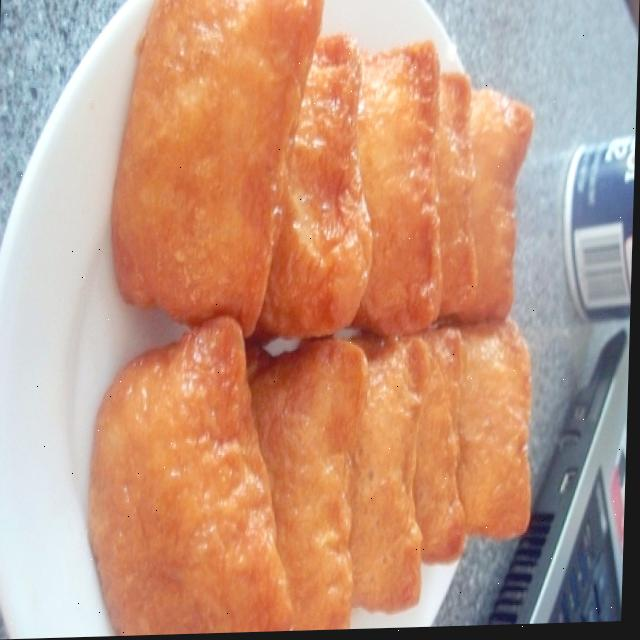寿司卷物: (18, 0, 575, 639)
